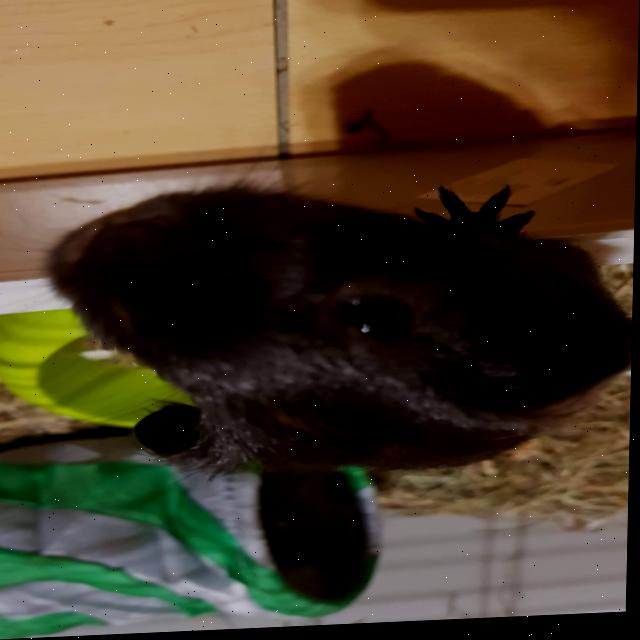guinea pig: (28, 167, 637, 493)
